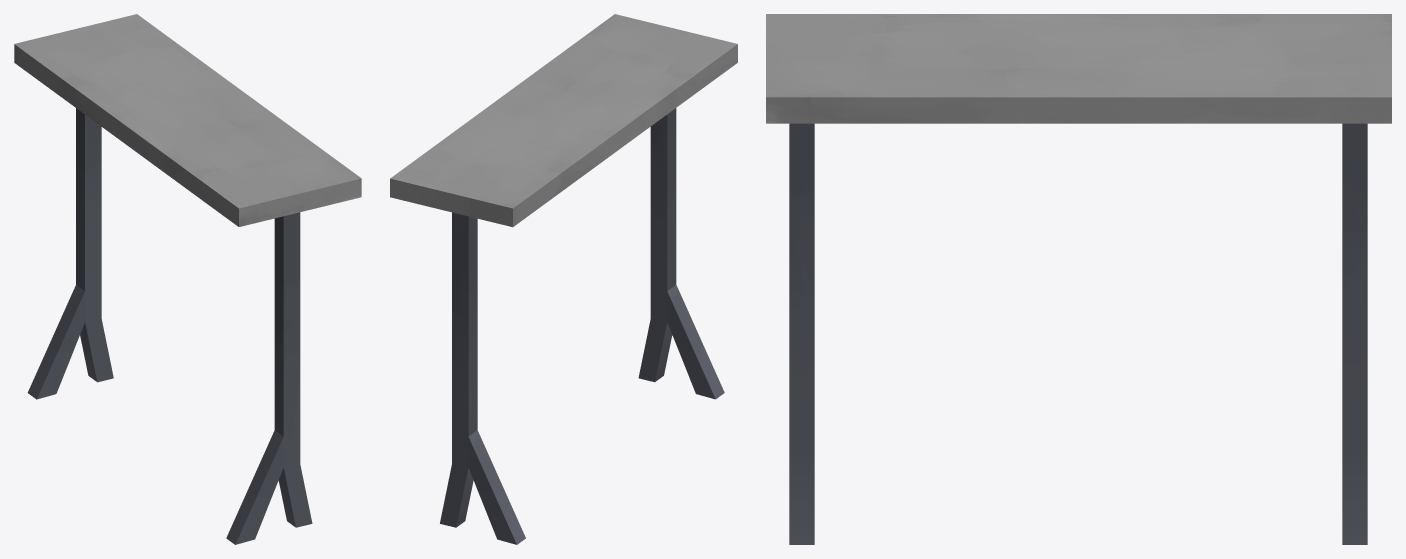
File: TableWall.fbx
3 views of the same model, side by side, from view 1: azimuth 30°, elevation 25°; view 2: azimuth 150°, elevation 25°; view 3: azimuth 270°, elevation 25° (orthographic). The views are drawn at different scales.
Parts seen in each view (by area): view 1: TableWall1, L_Leg, R_Leg, L_Leg_Add, R_Leg_Add; view 2: TableWall1, R_Leg, L_Leg, R_Leg_Add, L_Leg_Add; view 3: TableWall1, R_Leg, L_Leg.
Boxes of the visible parts, left/top/right/bottom form: TableWall1: left=14, top=14, right=361, bottom=226; L_Leg: left=274, top=212, right=312, bottom=527; R_Leg: left=76, top=108, right=113, bottom=382; L_Leg_Add: left=226, top=430, right=283, bottom=544; R_Leg_Add: left=27, top=285, right=84, bottom=399; TableWall1: left=390, top=14, right=737, bottom=227; R_Leg: left=440, top=212, right=477, bottom=527; L_Leg: left=638, top=108, right=676, bottom=382; R_Leg_Add: left=468, top=430, right=525, bottom=544; L_Leg_Add: left=667, top=285, right=724, bottom=399; TableWall1: left=766, top=14, right=1391, bottom=123; R_Leg: left=1342, top=123, right=1367, bottom=544; L_Leg: left=789, top=123, right=814, bottom=544.
Size of the model in its own units: 0.666 by 1.78 by 2.11.
